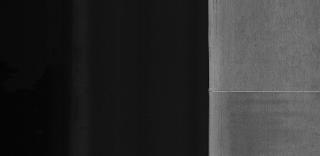silk spot: (252, 4, 316, 84), (275, 100, 317, 154)
welding line: (210, 88, 320, 95)
